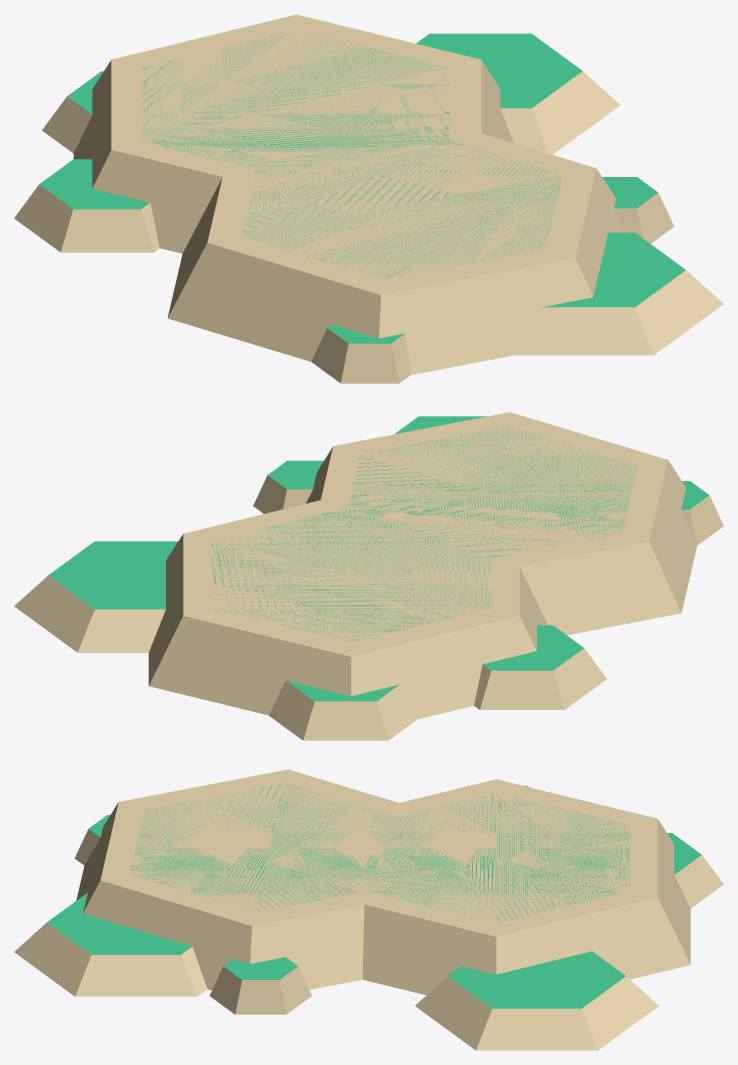
Rendered from rockFlatGrass.dae.
3 views of the same model, one above another, from view 1: azimuth 30°, elevation 25°; view 2: azimuth 150°, elevation 25°; view 3: azimuth 270°, elevation 25° (orthographic). The views are drawn at different scales.
Visible parts, largest first — view 1: rockFlatGrass; view 2: rockFlatGrass; view 3: rockFlatGrass.
Part boxes in pixels (<box>): rockFlatGrass: <box>14,14,723,383</box>; rockFlatGrass: <box>14,412,723,740</box>; rockFlatGrass: <box>14,769,723,1050</box>.
Size of the model in its own units: 5.79 by 0.66 by 7.15.
